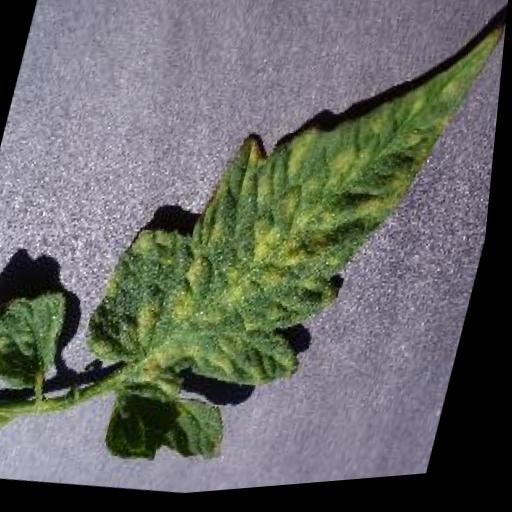Leaf Mold: (59, 0, 511, 506)
